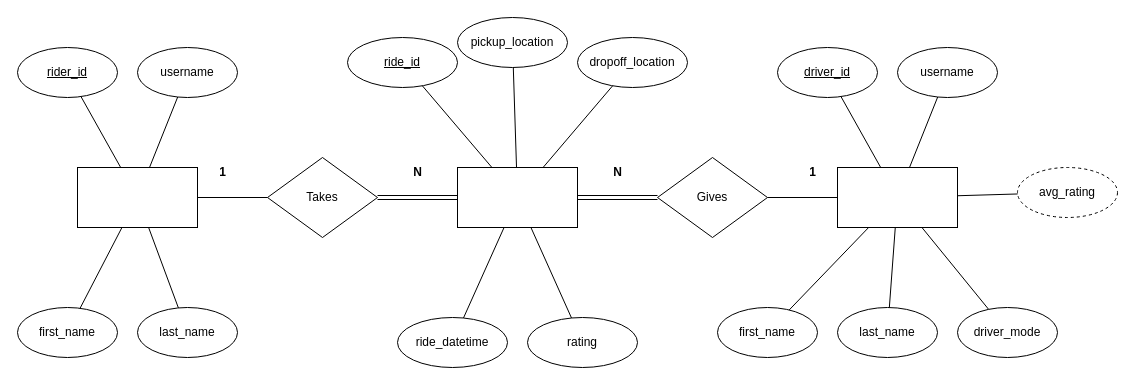
Some shapes in this 1135 by 385 pixel diagram are drawn without their labels. The shapes that lost their labels are listed below. From the top down, each one's centre as x and y in pixels, then its label:
At point (137, 197): "Rider".
At point (517, 197): "Ride".
At point (897, 197): "Driver".
